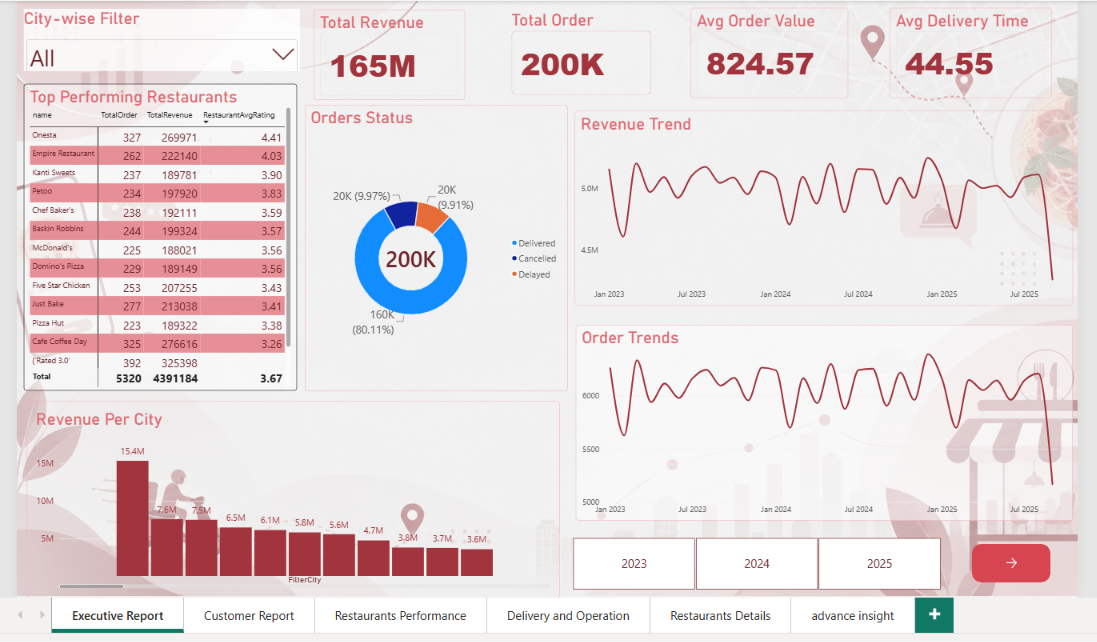

What the dashboard file says about the page in this screenshot:
{"tool":"powerbi","page":{"name":"Executive Report","canvas":[1920,1080],"ordinal":0},"visuals":[{"type":"cardVisual","title":"Total Order","fields":{"Data":["Orders.TotalOrder"]},"box":[885.7,12.9,273.3,163.3],"z":0},{"type":"cardVisual","title":"Avg Order Value","fields":{"Data":["Orders.AvgOrdervalue"]},"box":[1220,12.9,285,163.3],"z":1000},{"type":"cardVisual","title":"Total Revenue","fields":{"Data":["Orders.TotalRevenue"]},"box":[537.1,15.7,273.3,163.3],"z":2000},{"type":"cardVisual","title":"Avg Delivery Time","fields":{"Data":["Orders.AvgDeltime"]},"box":[1580,13.3,293.3,163.3],"z":3000},{"type":"lineChart","title":"Revenue Trend ","fields":{"Category":["DateTable.Date.Variation.Date Hierarchy.Year","DateTable.Date.Variation.Date Hierarchy.Month"],"Y":["Orders.TotalRevenue"]},"box":[1009.8,199.1,901.2,352.9],"z":4000},{"type":"lineChart","title":"Order Trends ","fields":{"Category":["DateTable.Date.Variation.Date Hierarchy.Year","DateTable.Date.Variation.Date Hierarchy.Month"],"Y":["Orders.TotalOrder"]},"box":[1011.6,586.3,899.4,354.7],"z":5000},{"type":"columnChart","title":"Revenue Per City","fields":{"Category":["Customers.FilterCity"],"Y":["Orders.TotalRevenue"]},"box":[17.8,723.3,964.4,356.7],"z":6000},{"type":"donutChart","title":"Orders Status","fields":{"Category":["Orders.OrderStatus"],"Y":["Orders.TotalOrder"]},"box":[521.1,187.8,476,518],"z":7000},{"type":"pivotTable","title":"Top Performing Restaurants","fields":{"Rows":["Restaurants.name"],"Values":["Orders.TotalOrder","Orders.TotalRevenue","Orders.RestaurantAvgRating"]},"box":[12.2,150,494.4,555.6],"z":8000},{"type":"slicer","fields":{"Values":["DateTable.Year"]},"box":[987.1,970,704.3,97.1],"z":10000},{"type":"slicer","title":"City-wise Filter  ","fields":{"Values":["Customers.FilterCity"]},"box":[12.5,15,500,112.5],"z":11000},{"type":"actionButton","box":[1727.5,982.5,142.5,70],"z":11001}]}

Visuals, with their boxes on the page's 1920x1080 design canvas (x1, y1, x2, y2). These are canvas units, not pixel positions in the 1097x642 screenshot, which may show the page scaled, cropped or inside an application window:
"Total Order" cardVisual: BBox(886, 13, 1159, 176)
"Avg Order Value" cardVisual: BBox(1220, 13, 1505, 176)
"Total Revenue" cardVisual: BBox(537, 16, 810, 179)
"Avg Delivery Time" cardVisual: BBox(1580, 13, 1873, 177)
"Revenue Trend " lineChart: BBox(1010, 199, 1911, 552)
"Order Trends " lineChart: BBox(1012, 586, 1911, 941)
"Revenue Per City" columnChart: BBox(18, 723, 982, 1080)
"Orders Status" donutChart: BBox(521, 188, 997, 706)
"Top Performing Restaurants" pivotTable: BBox(12, 150, 507, 706)
slicer - DateTable.Year: BBox(987, 970, 1691, 1067)
"City-wise Filter  " slicer: BBox(12, 15, 512, 128)
actionButton: BBox(1728, 982, 1870, 1052)
